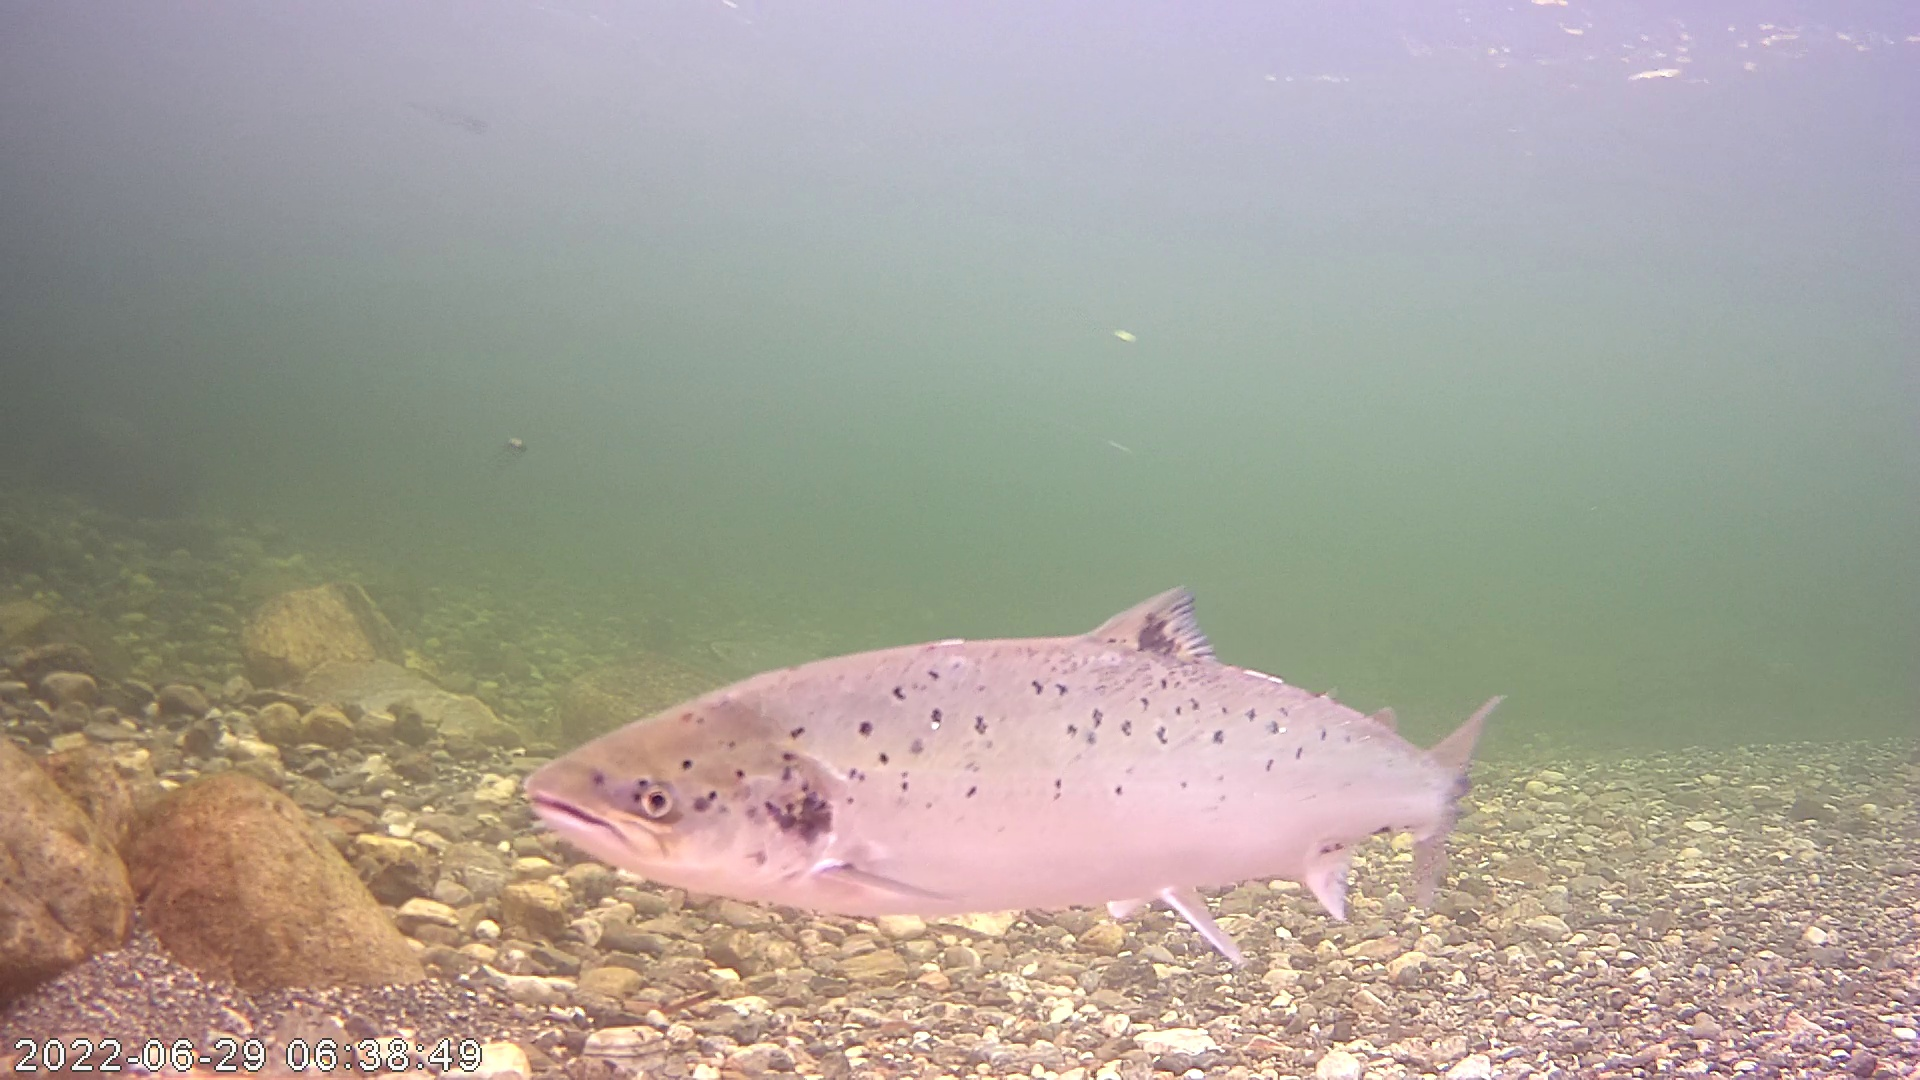salmon: (533, 516, 1495, 942)
